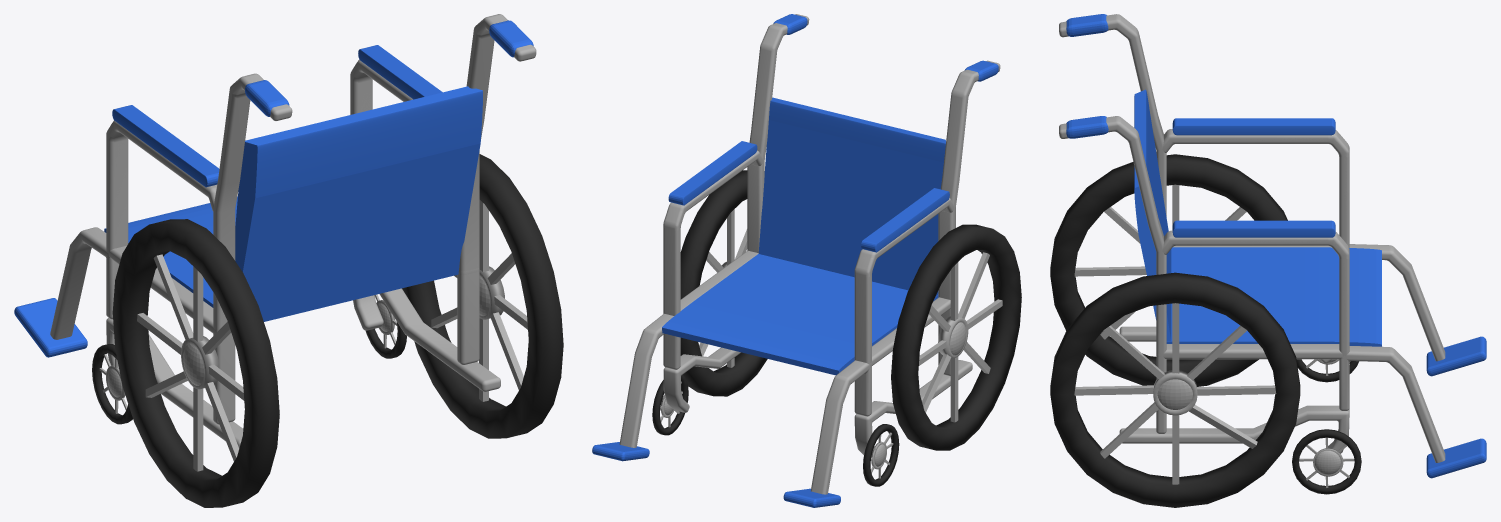
Rendered from wheelchair.fbx.
3 views of the same model, side by side, from view 1: azimuth 30°, elevation 25°; view 2: azimuth 150°, elevation 25°; view 3: azimuth 270°, elevation 25° (orthographic). The views are drawn at different scales.
Visible parts, largest first — view 1: Pillow, Frame, BigWheel1, BigWheel2, InsideBigWheel1, Armrests, InsideBigWheel1.001, footrest, Handles, SmalllWheel1, InsideSmallWheel1, SmalllWheel2; view 2: Pillow, Frame, BigWheel1, BigWheel2, InsideBigWheel1, Armrests, SmalllWheel1, InsideBigWheel1.001, Handles, SmalllWheel2, footrest, footrest.001 (+1 smaller); view 3: Frame, BigWheel2, Pillow, BigWheel1, InsideBigWheel1.001, Armrests, InsideBigWheel1, Handles, SmalllWheel2, footrest.001, footrest, InsideSmallWheel2 (+1 smaller).
Part boxes in pixels (<box>): Pillow: <box>104,86,482,321</box>; Frame: <box>50,14,536,447</box>; BigWheel1: <box>112,219,279,507</box>; BigWheel2: <box>402,154,563,438</box>; InsideBigWheel1: <box>137,254,244,471</box>; Armrests: <box>112,45,442,187</box>; InsideBigWheel1.001: <box>431,200,527,401</box>; footrest: <box>14,298,87,357</box>; Handles: <box>245,20,533,116</box>; SmalllWheel1: <box>92,344,132,424</box>; InsideSmallWheel1: <box>99,354,127,413</box>; SmalllWheel2: <box>365,322,406,358</box>; Pillow: <box>662,97,945,375</box>; Frame: <box>619,14,1000,494</box>; BigWheel1: <box>891,224,1021,450</box>; BigWheel2: <box>680,170,767,396</box>; InsideBigWheel1: <box>919,252,1002,422</box>; Armrests: <box>668,141,949,252</box>; SmalllWheel1: <box>863,424,899,486</box>; InsideBigWheel1.001: <box>699,209,747,367</box>; Handles: <box>773,14,998,81</box>; SmalllWheel2: <box>652,375,688,435</box>; footrest: <box>783,488,840,507</box>; footrest.001: <box>592,442,649,461</box>; Frame: <box>1059,14,1445,462</box>; BigWheel2: <box>1050,272,1300,507</box>; Pillow: <box>1134,89,1381,346</box>; BigWheel1: <box>1050,154,1287,386</box>; InsideBigWheel1.001: <box>1074,303,1276,484</box>; Armrests: <box>1172,118,1335,237</box>; InsideBigWheel1: <box>1074,184,1246,339</box>; Handles: <box>1066,14,1108,138</box>; SmalllWheel2: <box>1292,429,1361,494</box>; footrest.001: <box>1426,438,1486,478</box>; footrest: <box>1426,336,1486,376</box>; InsideSmallWheel2: <box>1299,437,1354,487</box>.
Size of the model in its own units: 259 by 355 by 373.
